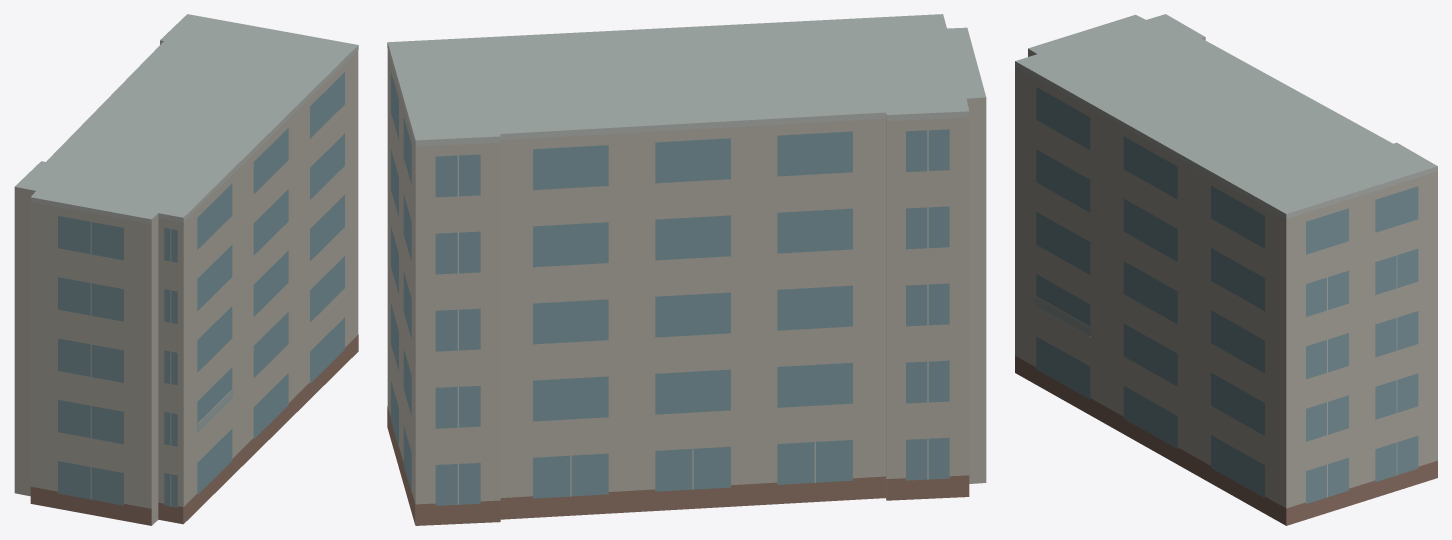
Rendered from survey-upis-32604657.glb.
The picture shows the model from 3 angles, left to right: view 1: azimuth 30°, elevation 25°; view 2: azimuth 150°, elevation 25°; view 3: azimuth 270°, elevation 25°; orthographic projection. The views are drawn at different scales.
Visible parts, largest first — view 1: survey-upis-32604657.tmp; view 2: survey-upis-32604657.tmp; view 3: survey-upis-32604657.tmp.
Boxes of the visible parts, x1,y1,x2,y2 form: survey-upis-32604657.tmp: [14, 14, 358, 525]; survey-upis-32604657.tmp: [387, 14, 986, 525]; survey-upis-32604657.tmp: [1015, 14, 1437, 525].
Bounding box in the file's own units: 20.93 × 15.2 × 18.69.
